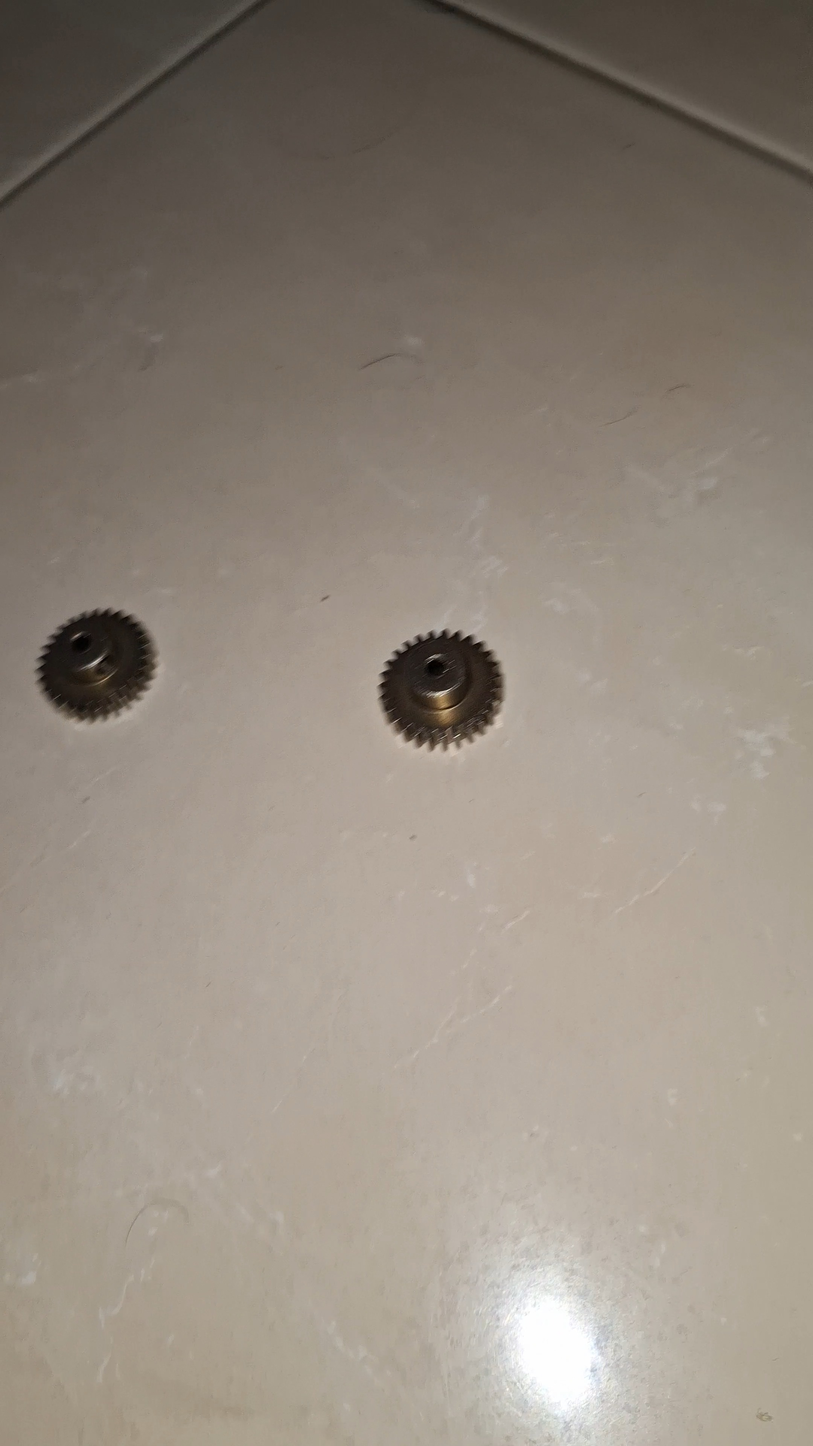spur gear: (380, 630, 502, 748), (38, 610, 154, 720)
